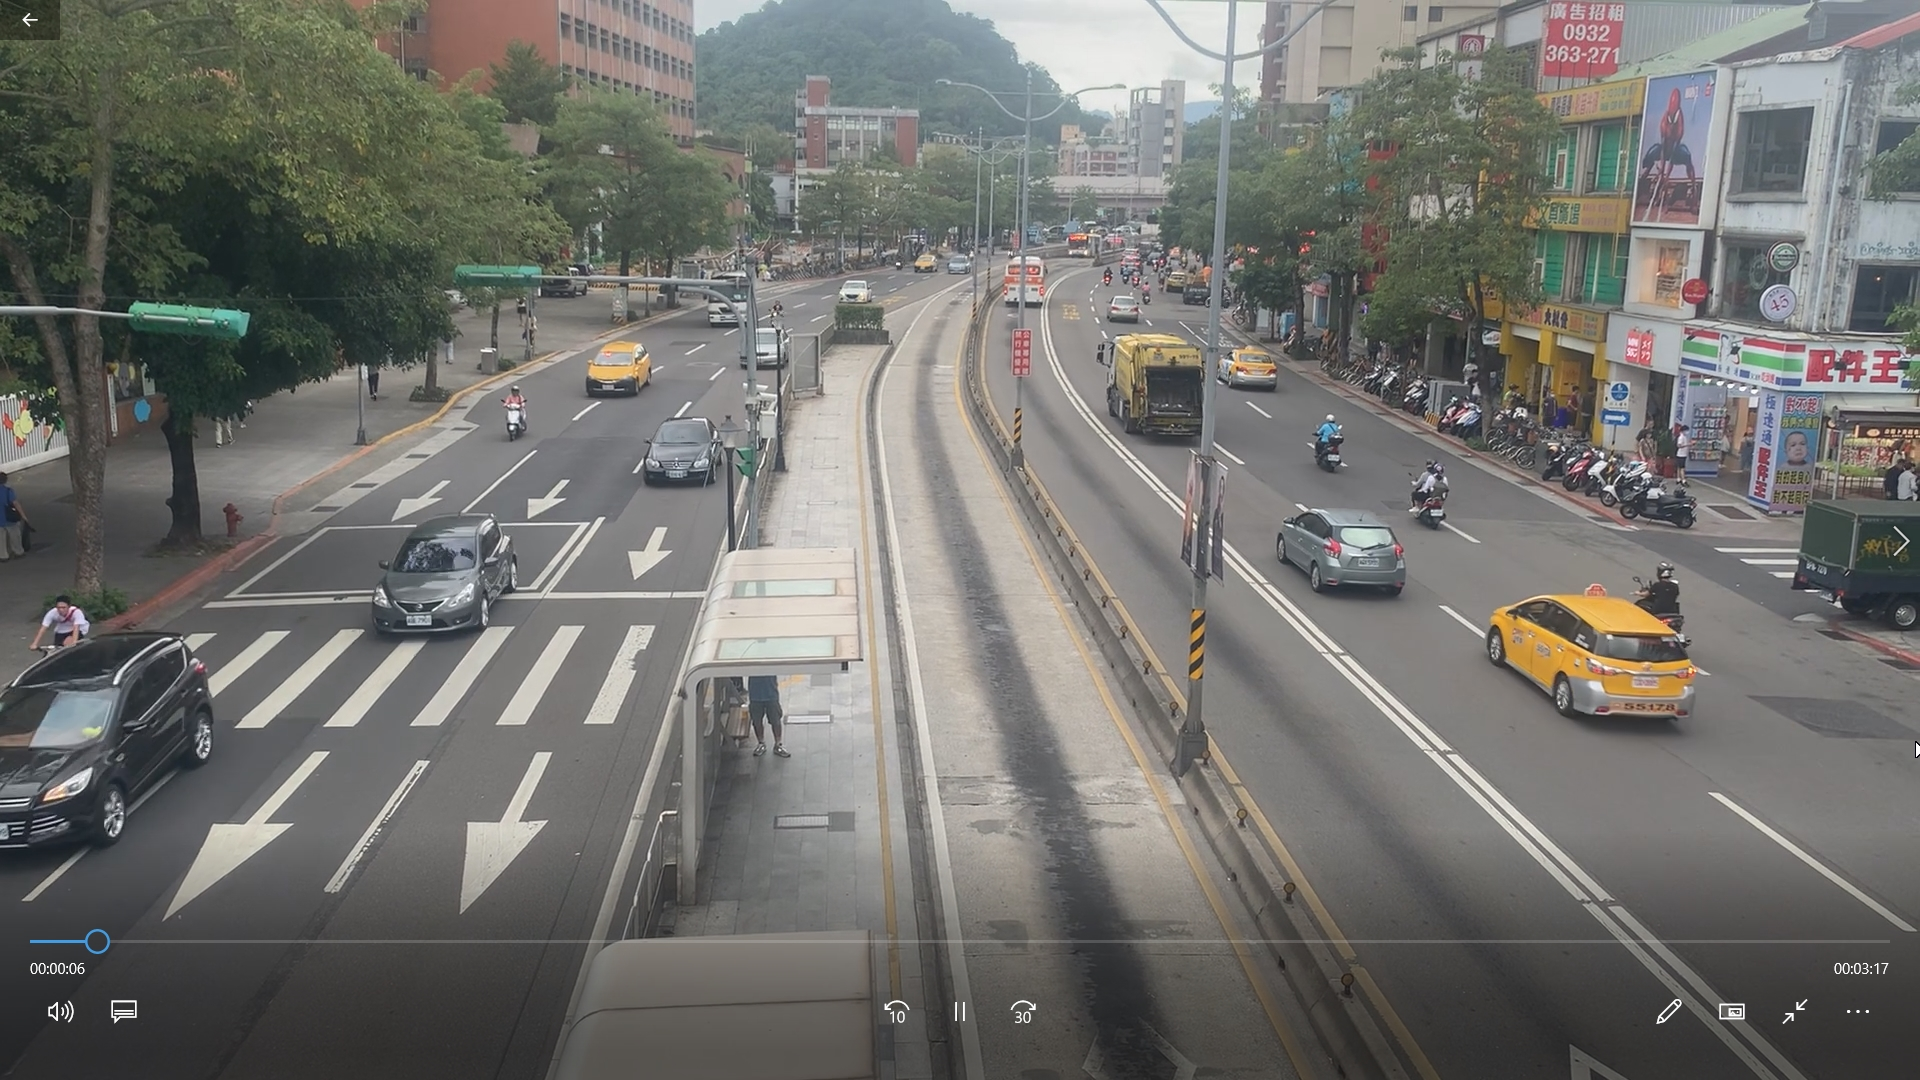Bus: (1101, 342, 1208, 436), (1004, 255, 1046, 310)
Business Passenger Car: (1487, 591, 1698, 723), (580, 340, 649, 396), (1222, 343, 1276, 392)
Motorcycle: (1638, 562, 1683, 642), (1412, 454, 1455, 527), (1307, 407, 1349, 467), (500, 382, 529, 443)
Private Passenger Car: (3, 638, 214, 843), (372, 512, 520, 647), (1278, 506, 1404, 593), (645, 419, 713, 487), (740, 322, 789, 375), (1105, 289, 1135, 328), (836, 276, 869, 307), (951, 256, 971, 276)
